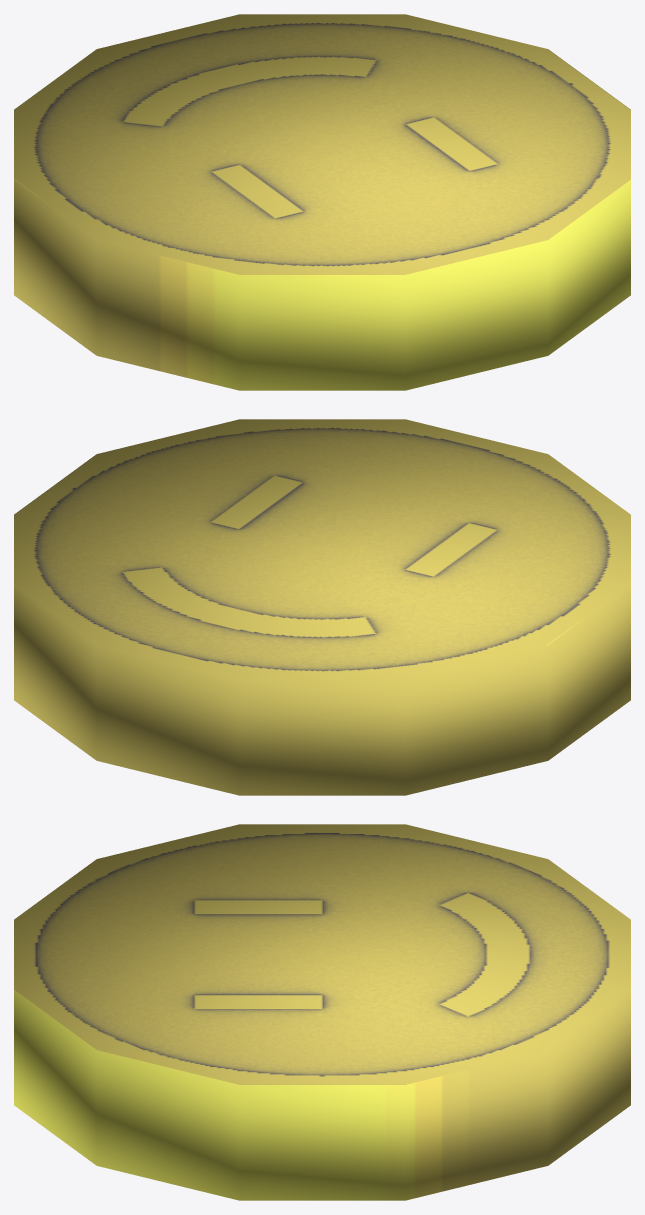
File: medal.fbx
3 views of the same model, one above another, from view 1: azimuth 30°, elevation 25°; view 2: azimuth 150°, elevation 25°; view 3: azimuth 270°, elevation 25° (orthographic).
Visible parts, largest first — view 1: medal; view 2: medal; view 3: medal.
Boxes of the visible parts, bbox=[...] form: medal: bbox=[14, 14, 630, 390]; medal: bbox=[14, 419, 630, 795]; medal: bbox=[14, 824, 630, 1200].
Size of the model in its own units: 1.93 by 0.4 by 1.93.
Materials: 1 (1 with a texture image).
